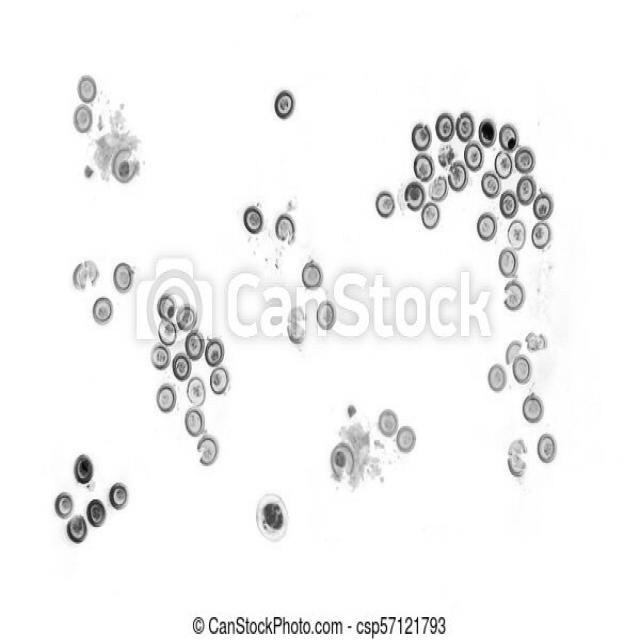Taenia Sp: (250, 491, 292, 548), (171, 352, 194, 384)
